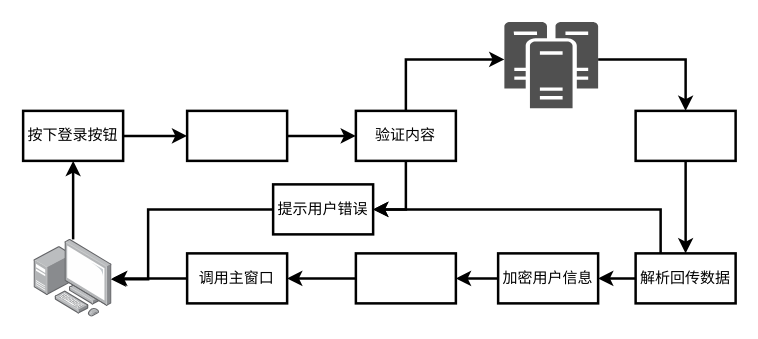
Some shapes in this 758 by 339 pixel diagram are drawn without their labels. The centre of each missing label's shape, as x and y in pixels:
"保存当前用户信息" goes at point (405, 278).
"接收回传数据" goes at point (685, 135).
"提取 ui 内容" goes at point (236, 135).
